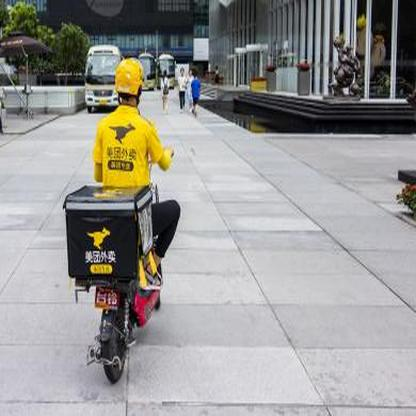target: (63, 55, 183, 384)
